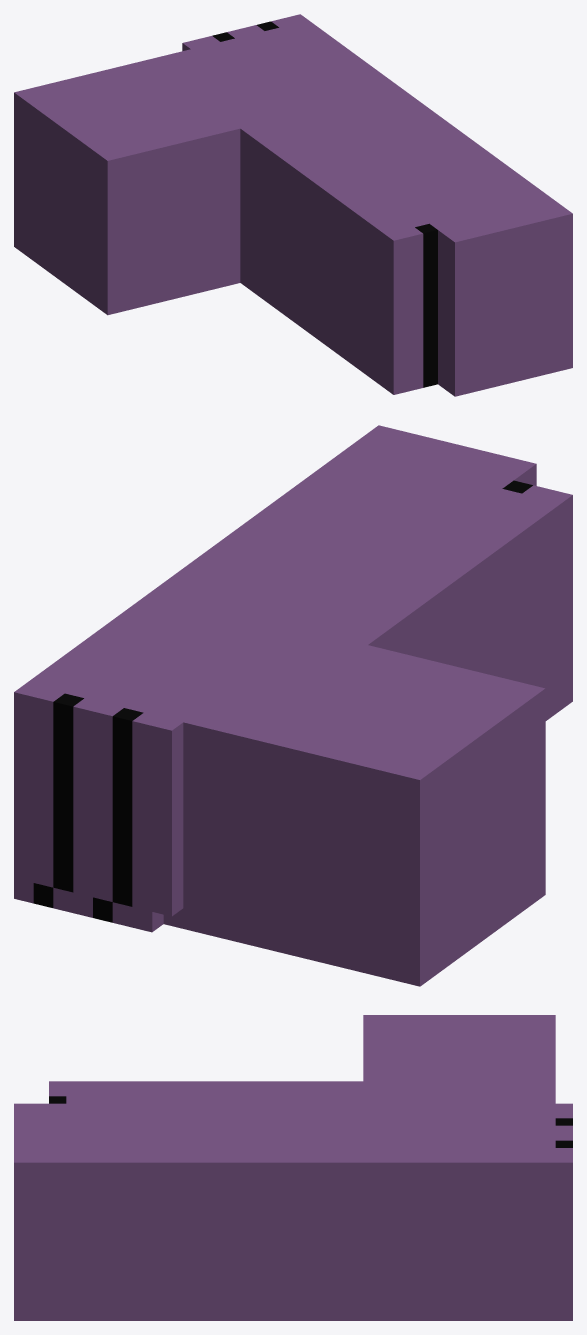
3 renders of one model, top to bottom at view 1: azimuth 30°, elevation 25°; view 2: azimuth 150°, elevation 25°; view 3: azimuth 270°, elevation 25°, orthographic. The views are drawn at different scales.
Bounding box in the file's own units: 1 × 0.5 × 1.6.
